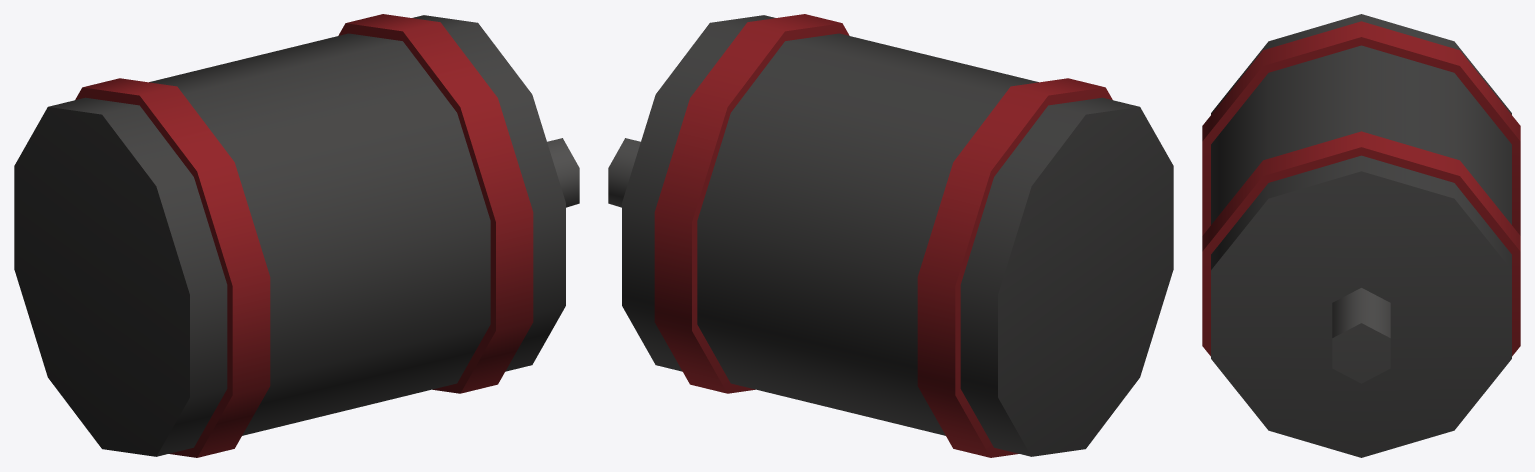
File: electric-engine-unit.glb
3 views of the same model, side by side, from view 1: azimuth 30°, elevation 25°; view 2: azimuth 150°, elevation 25°; view 3: azimuth 270°, elevation 25° (orthographic). The views are drawn at different scales.
Parts seen in each view (by area): view 1: electric-engine-unit; view 2: electric-engine-unit; view 3: electric-engine-unit.
Part boxes in pixels (bbox=[...]): electric-engine-unit: bbox=[14, 14, 579, 457]; electric-engine-unit: bbox=[608, 14, 1173, 457]; electric-engine-unit: bbox=[1202, 14, 1520, 457].
Bounding box in the file's own units: 0.245 × 0.18 × 0.1712.
